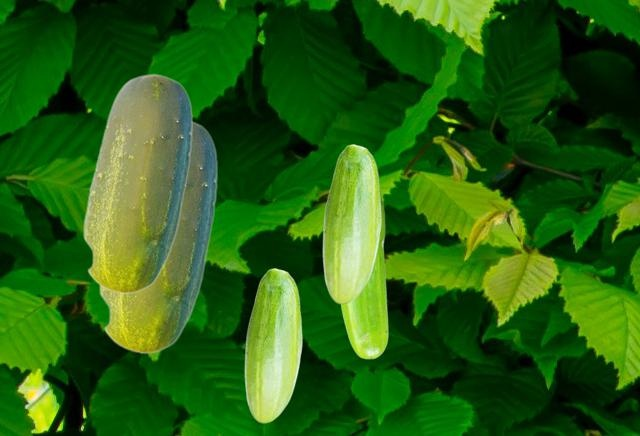cucumber: (98, 120, 216, 353), (82, 73, 191, 293), (322, 144, 380, 303), (244, 268, 301, 422), (340, 187, 387, 358)
